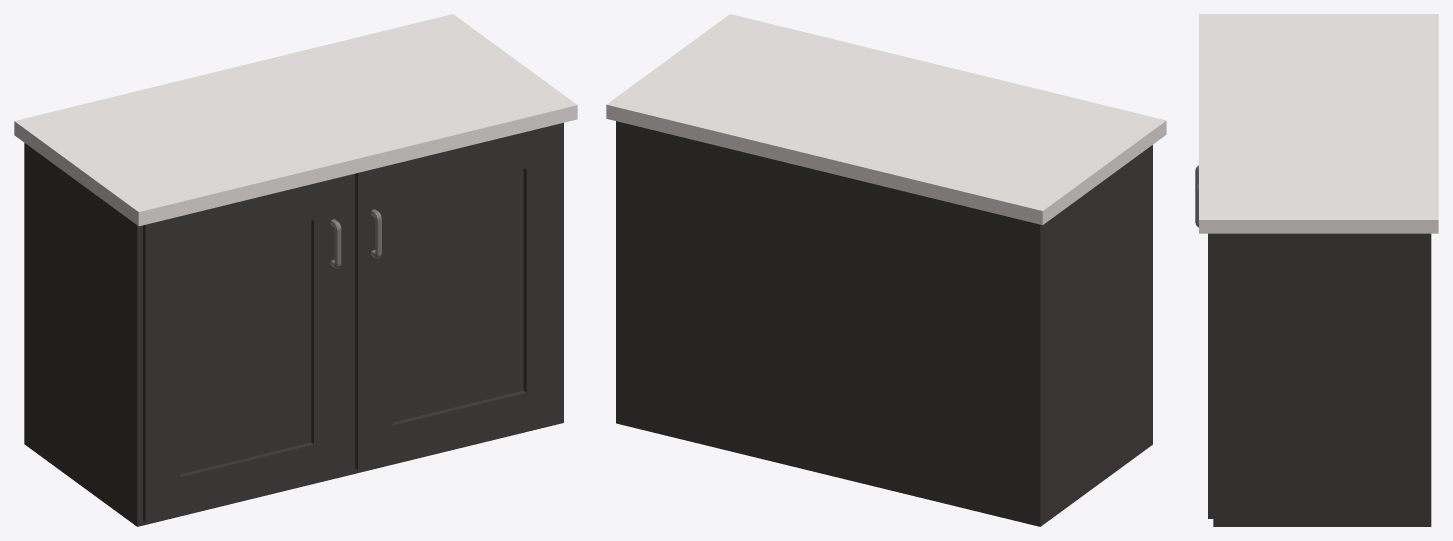
The model's file is Kitchen Tabletop_06.fbx.
The picture shows the model from 3 angles, left to right: view 1: azimuth 30°, elevation 25°; view 2: azimuth 150°, elevation 25°; view 3: azimuth 270°, elevation 25°; orthographic projection. The views are drawn at different scales.
Visible parts, largest first — view 1: Kitchen Tabletop_06; view 2: Kitchen Tabletop_06; view 3: Kitchen Tabletop_06.
Boxes of the visible parts, x1=… form: Kitchen Tabletop_06: x1=14, y1=14, x2=577, y2=526; Kitchen Tabletop_06: x1=606, y1=14, x2=1166, y2=526; Kitchen Tabletop_06: x1=1195, y1=14, x2=1438, y2=526.
Bounding box in the file's own units: 127 × 89.04 × 63.33.
